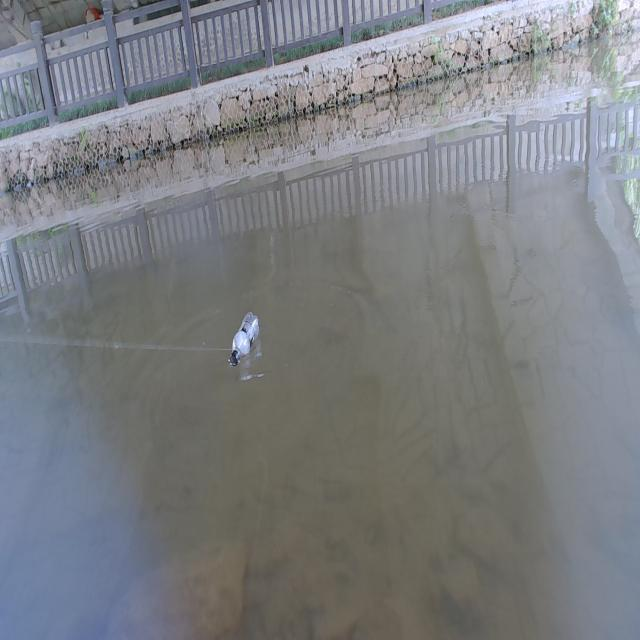garbage: (229, 310, 260, 366)
